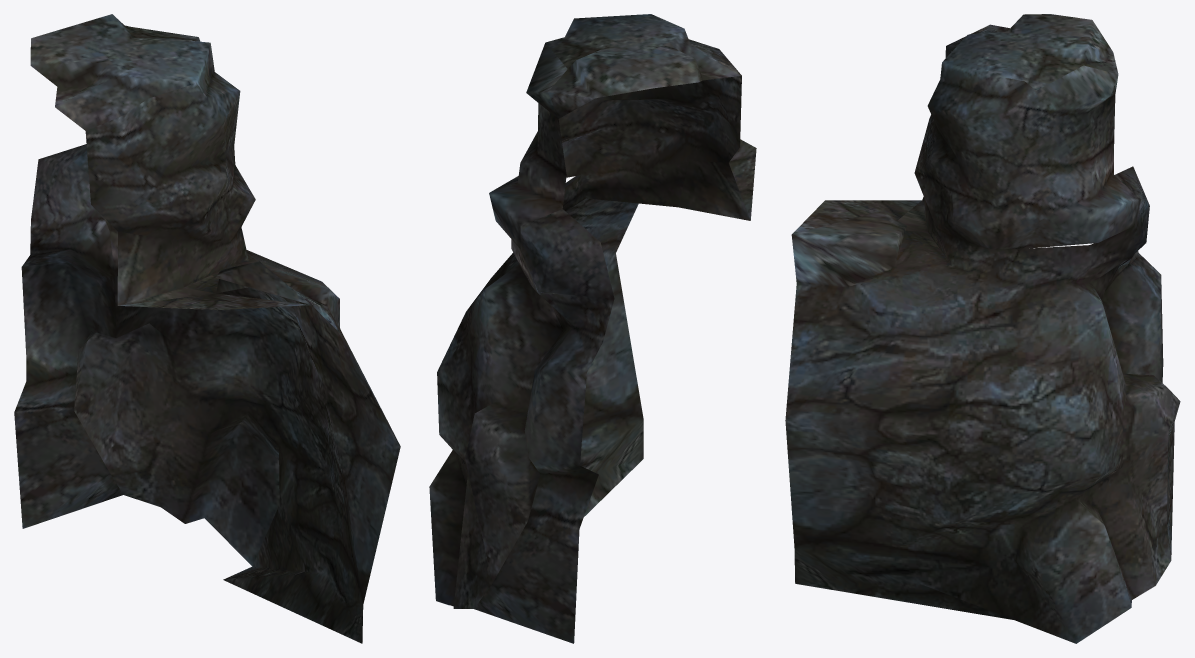
The model's file is S_Rock_Yellow034_25.FBX.
3 renders of one model, left to right at view 1: azimuth 30°, elevation 25°; view 2: azimuth 150°, elevation 25°; view 3: azimuth 270°, elevation 25°, orthographic. The views are drawn at different scales.
Parts seen in each view (by area): view 1: S_Rock_Yellow034_25; view 2: S_Rock_Yellow034_25; view 3: S_Rock_Yellow034_25.
Boxes of the visible parts, left/top/right/bottom form: S_Rock_Yellow034_25: left=14, top=14, right=400, bottom=643; S_Rock_Yellow034_25: left=429, top=14, right=756, bottom=643; S_Rock_Yellow034_25: left=785, top=14, right=1180, bottom=643.
Bounding box in the file's own units: 148 × 203 × 304.
